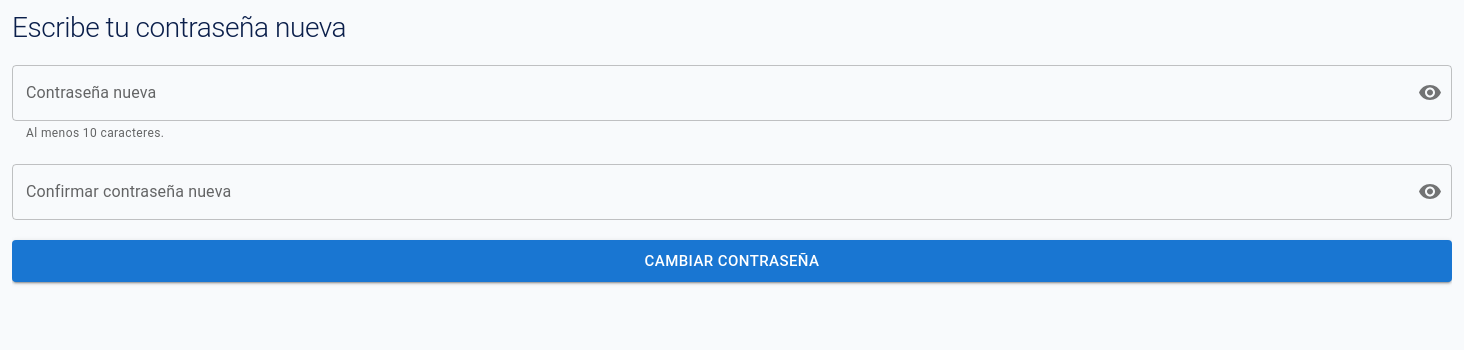
it: FormularioRestablecer › los errores por campo de la API se muestran junto al campo
Type "contrasena-nueva-1" into the password field labelled "Contraseña nueva". click: (707, 93)
box: [12,65,1402,121]
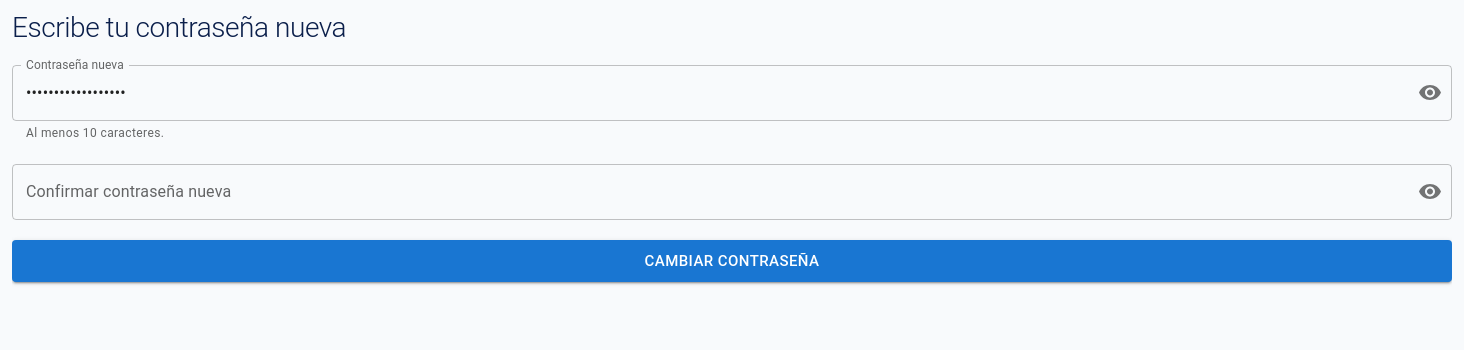
Type "contrasena-nueva-1" into the password field labelled "Confirmar contraseña nueva". click: (707, 192)
box: [12,164,1402,220]
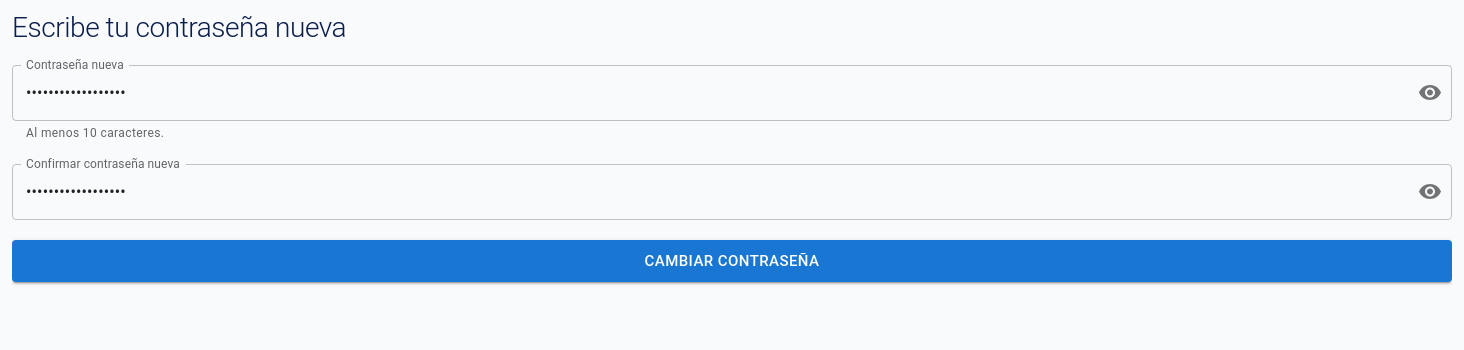
Submit the form named "Cambiar contraseña"
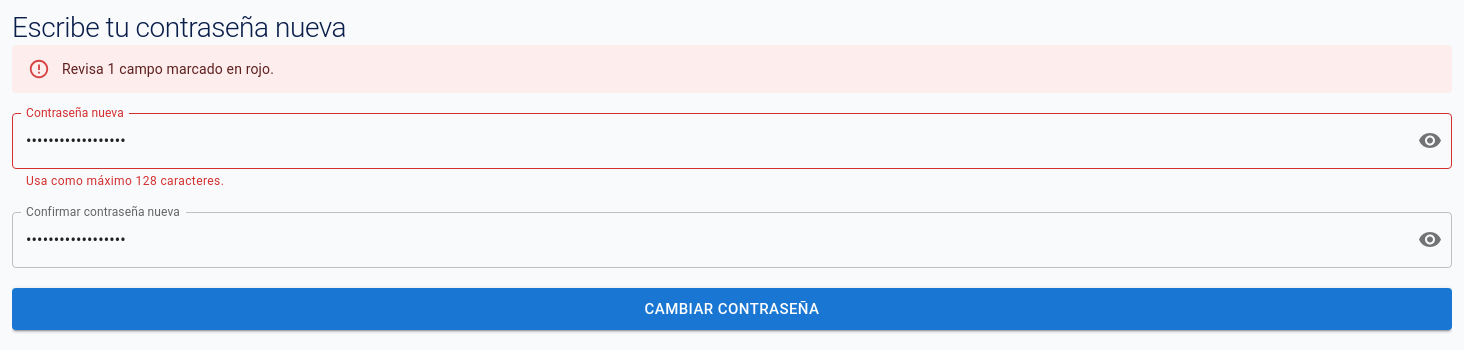
Expected: the heading reads "Escribe tu contraseña nueva", [12,11,346,44]
Expected: the text "Usa como máximo 128 caracteres." is shown, [26,174,224,188]
